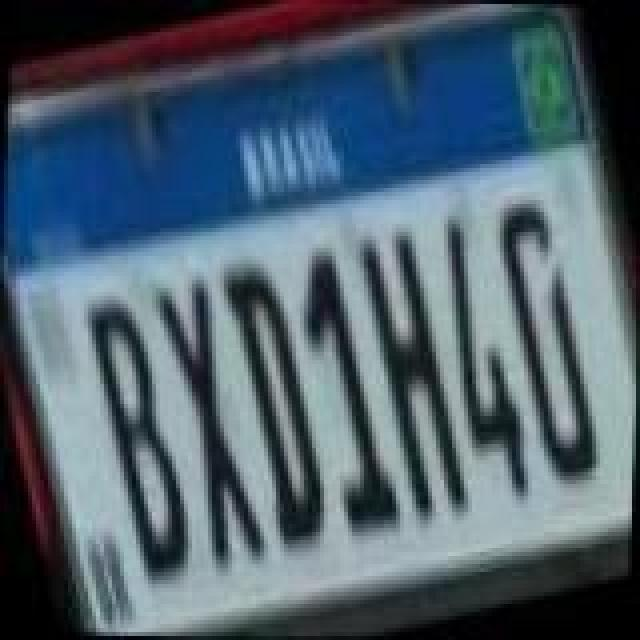1: (272, 236, 416, 544)
4: (404, 206, 548, 514)
B: (70, 290, 214, 594)
D: (200, 252, 348, 556), (478, 188, 622, 492)
H: (338, 220, 486, 536)
X: (138, 266, 282, 570)
